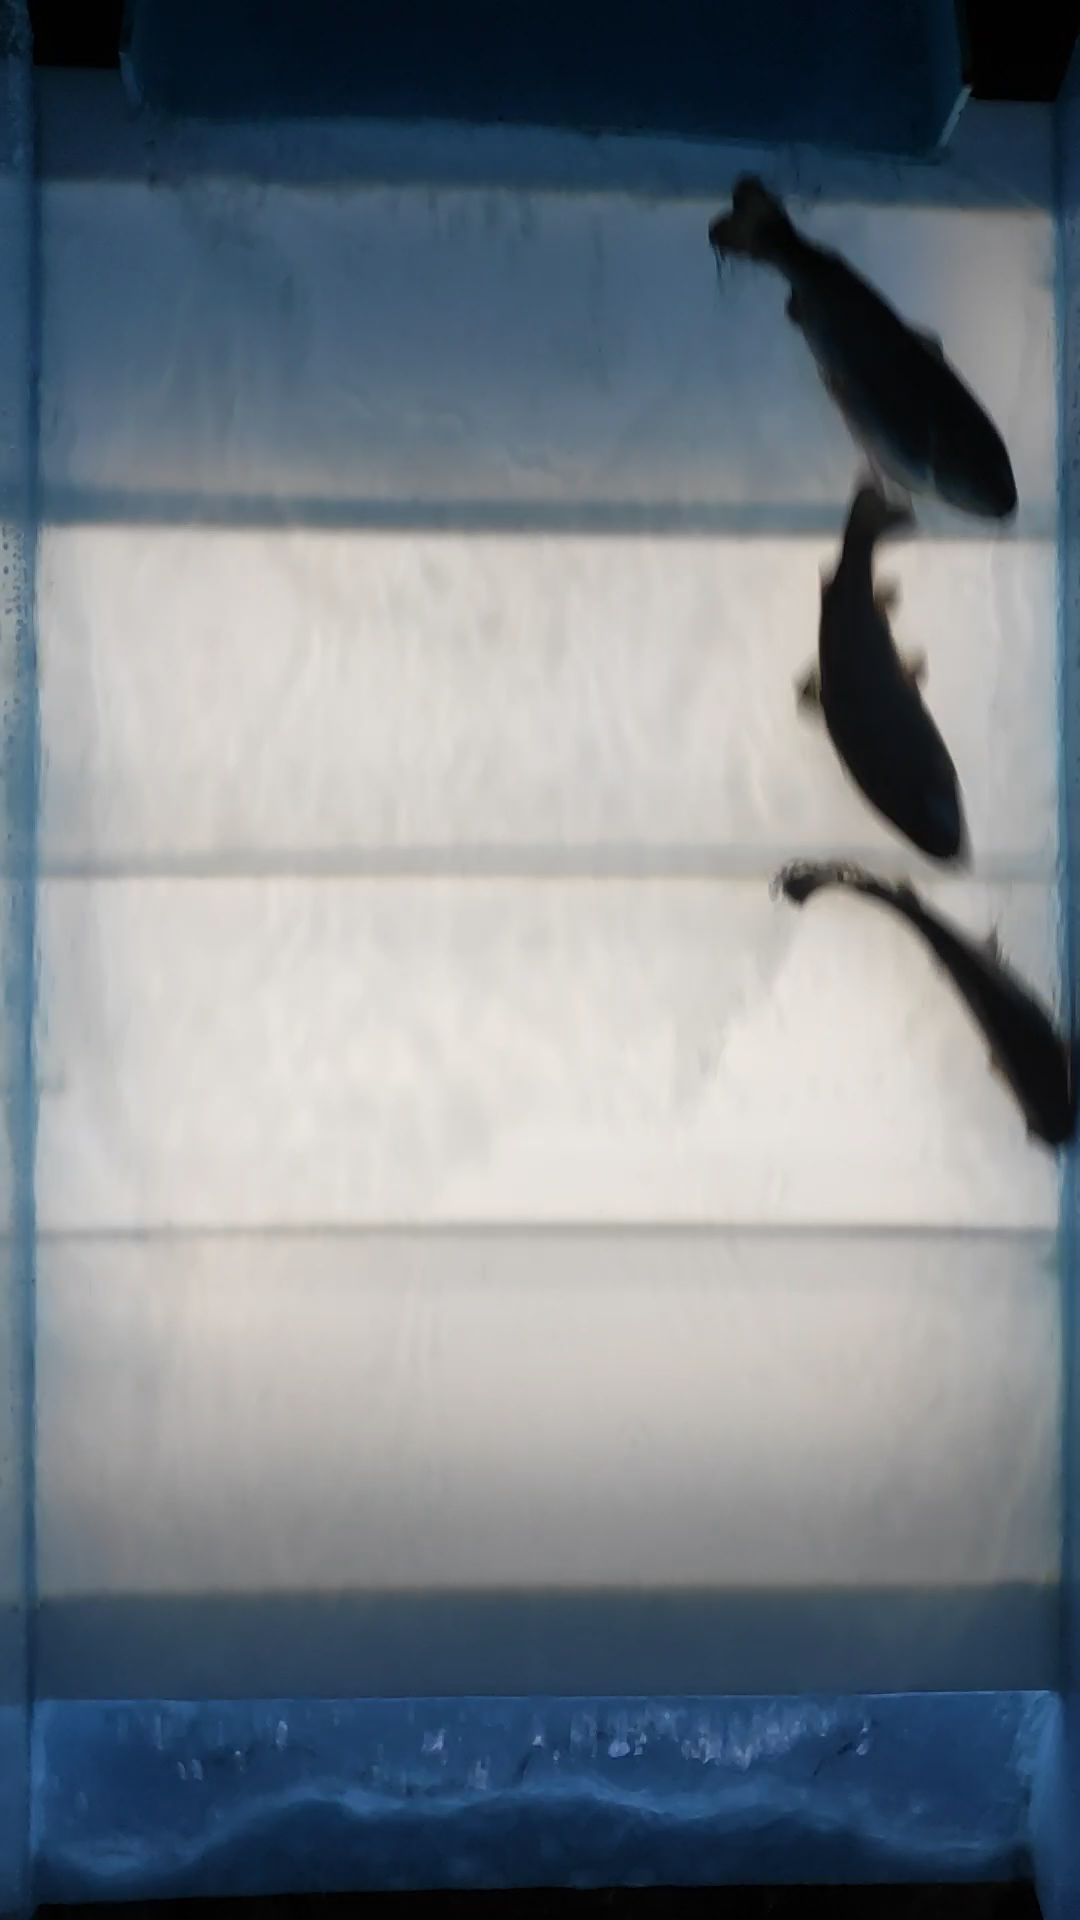fish: (707, 168, 1022, 524), (775, 856, 1080, 1164), (798, 462, 981, 871)
